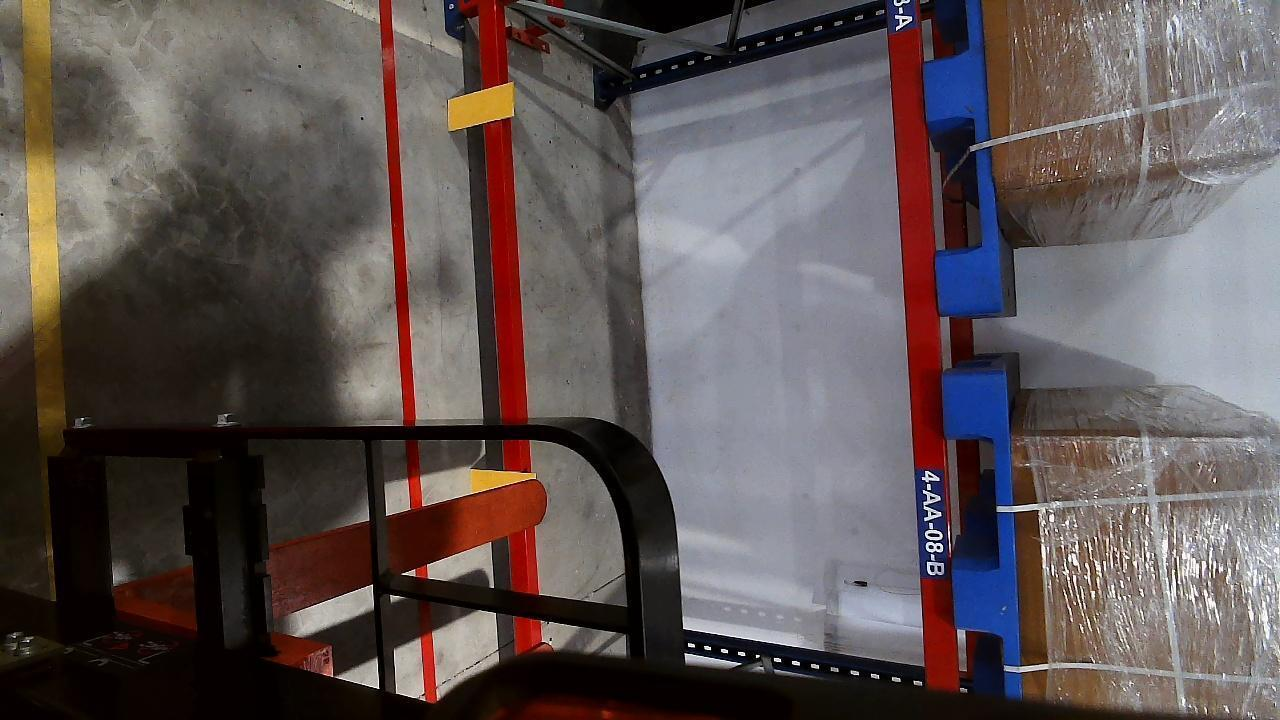red_line: (378, 0, 418, 467)
yellow_line: (17, 0, 67, 451)
